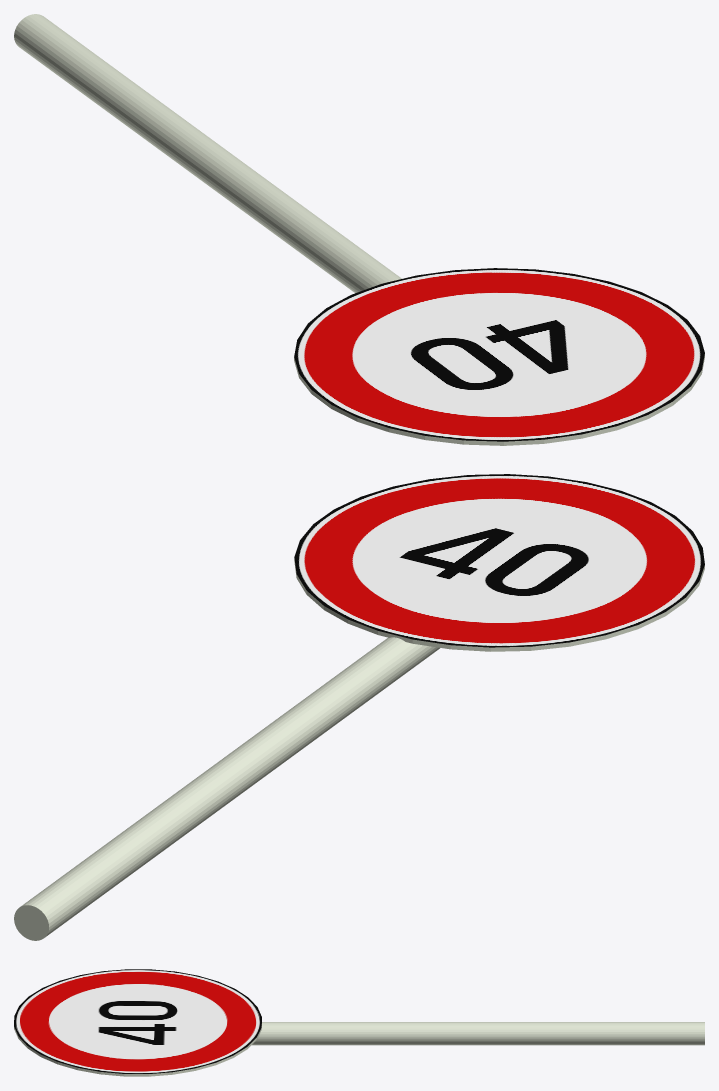
The picture shows the model from 3 angles, top to bottom: view 1: azimuth 30°, elevation 25°; view 2: azimuth 150°, elevation 25°; view 3: azimuth 270°, elevation 25°; orthographic projection. The views are drawn at different scales.
Parts seen in each view (by area): view 1: Circle.001, 40_tube; view 2: Circle.001, 40_tube; view 3: Circle.001, 40_tube.
Boxes of the visible parts, x1,y1,x2,y2 form: Circle.001: [294, 268, 704, 445]; 40_tube: [14, 14, 401, 293]; Circle.001: [294, 474, 704, 651]; 40_tube: [14, 637, 439, 940]; Circle.001: [14, 969, 261, 1076]; 40_tube: [252, 1022, 704, 1045].
Bounding box in the file's own units: 0.0516 × 0.00514 × 0.1437.
Materials: 3 (1 with a texture image).
